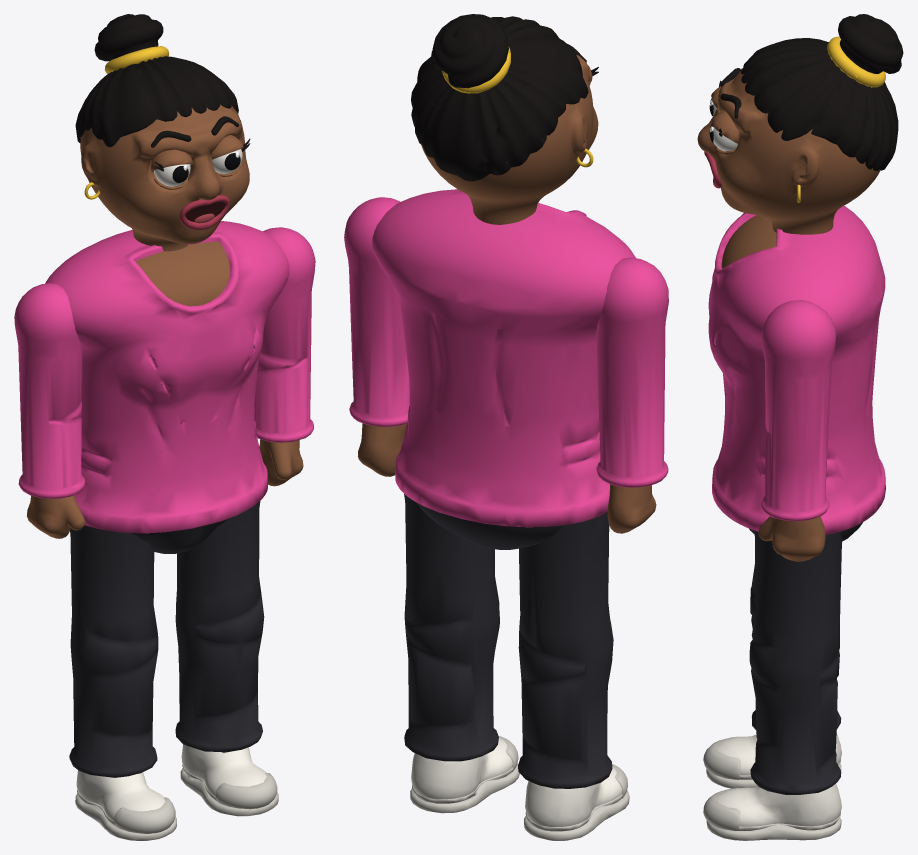
The model's file is mama.glb.
3 renders of one model, left to right at view 1: azimuth 30°, elevation 25°; view 2: azimuth 150°, elevation 25°; view 3: azimuth 270°, elevation 25°, orthographic. The views are drawn at different scales.
Parts seen in each view (by area): view 1: Body_Mesh, Head_Mesh, LegR_Mesh, LegL_Mesh, ArmR_Mesh, ArmL_Mesh, Mouth; view 2: Body_Mesh, Head_Mesh, LegR_Mesh, LegL_Mesh, ArmR_Mesh, ArmL_Mesh; view 3: Body_Mesh, Head_Mesh, LegL_Mesh, ArmL_Mesh, LegR_Mesh.
Boxes of the visible parts, <box> form: Body_Mesh: <box>45,221,289,553</box>; Head_Mesh: <box>75,14,250,251</box>; LegR_Mesh: <box>69,525,176,840</box>; LegL_Mesh: <box>175,501,278,816</box>; ArmR_Mesh: <box>14,283,85,538</box>; ArmL_Mesh: <box>254,227,315,486</box>; Mouth: <box>179,195,230,229</box>; Body_Mesh: <box>372,189,635,549</box>; Head_Mesh: <box>411,14,598,224</box>; LegR_Mesh: <box>518,512,629,840</box>; LegL_Mesh: <box>404,494,519,813</box>; ArmR_Mesh: <box>596,257,668,533</box>; ArmL_Mesh: <box>344,197,409,476</box>; Body_Mesh: <box>708,206,885,541</box>; Head_Mesh: <box>697,14,903,234</box>; LegL_Mesh: <box>703,530,842,840</box>; ArmL_Mesh: <box>758,300,836,561</box>; LegR_Mesh: <box>703,539,841,788</box>.
Bounding box in the file's own units: 0.7897 × 1.96 × 0.4674.
